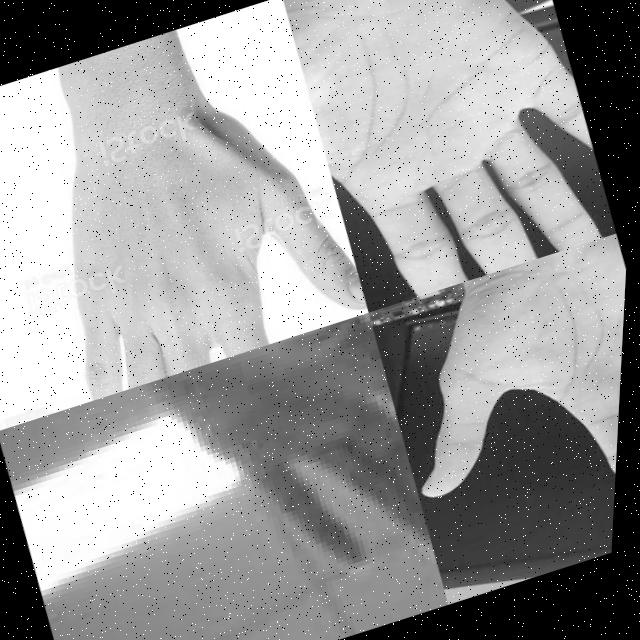hand: (5, 42, 383, 403), (269, 0, 628, 312), (116, 313, 456, 640), (361, 233, 631, 603)
